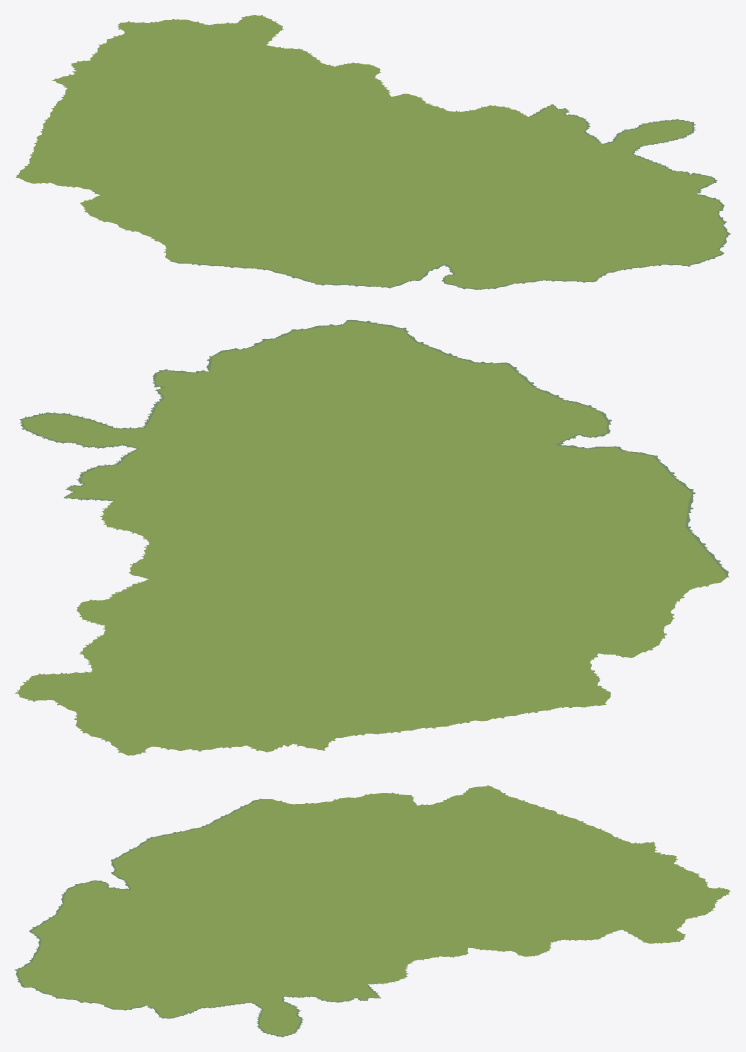
The model's file is Mesh_Home_Terrain_Ground.fbx.
The picture shows the model from 3 angles, top to bottom: view 1: azimuth 30°, elevation 25°; view 2: azimuth 150°, elevation 25°; view 3: azimuth 270°, elevation 25°; orthographic projection. The views are drawn at different scales.
Visible parts, largest first — view 1: Mesh_Home_Terrain_Ground; view 2: Mesh_Home_Terrain_Ground; view 3: Mesh_Home_Terrain_Ground.
Part boxes in pixels (x1,y1,x2,y2): Mesh_Home_Terrain_Ground: (16, 15, 730, 289); Mesh_Home_Terrain_Ground: (15, 320, 729, 755); Mesh_Home_Terrain_Ground: (14, 785, 730, 1037).
Bounding box in the file's own units: 4489 × 12.41 × 5387.
